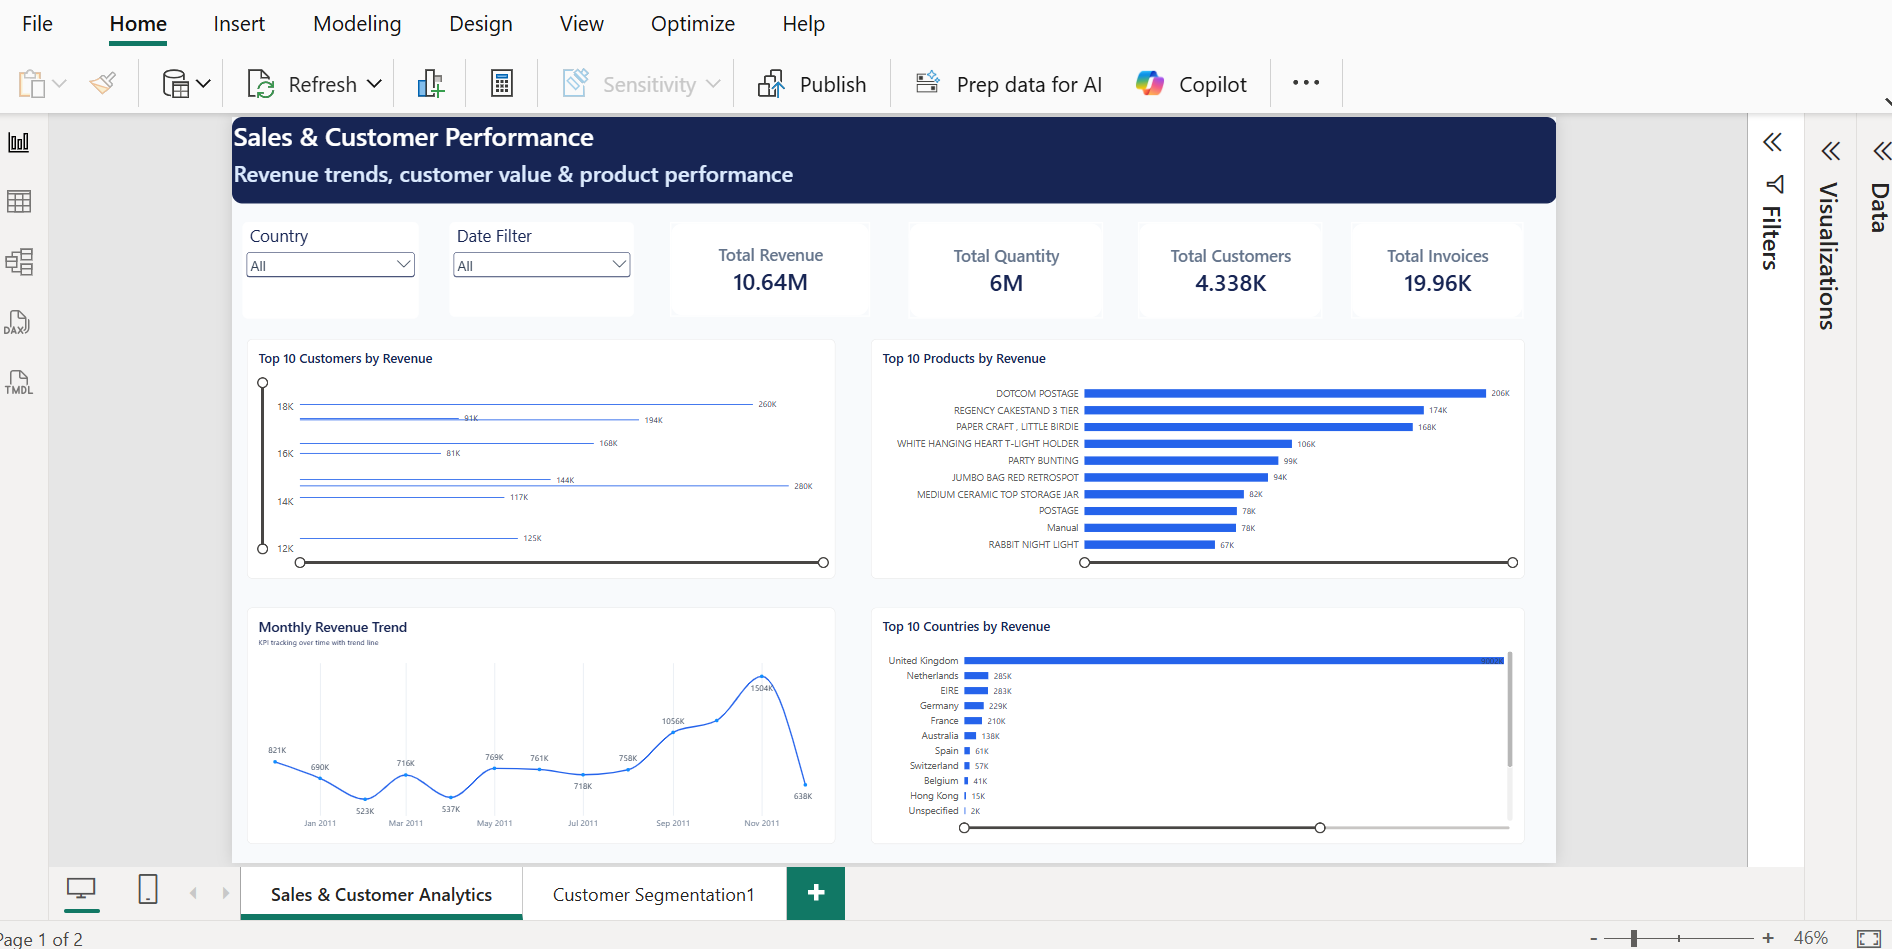

The dashboard page shown, as its layout file describes it:
{"tool":"powerbi","page":{"name":"Sales & Customer Analytics","canvas":[1920,1080],"ordinal":0},"visuals":[{"type":"cardVisual","fields":{"Data":["Sum(public order_items.revenue)"]},"box":[635,152.5,290,137.5],"z":0},{"type":"cardVisual","fields":{"Data":["Count(public orders.invoice_no)"]},"box":[1622.5,152.5,250,140],"z":1000},{"type":"cardVisual","fields":{"Data":["Sum(public order_items.quantity)"]},"box":[980,152.5,282.5,140],"z":2000},{"type":"cardVisual","fields":{"Data":["Count(public customers.customer_id)"]},"box":[1312.5,152.5,267.5,140],"z":3000},{"type":"lineChart","title":"Monthly Revenue Trend","fields":{"Y":["Sum(public order_items.revenue)"],"Category":["public orders.invoice_date.Variation.Date Hierarchy.Year","public orders.invoice_date.Variation.Date Hierarchy.Month"]},"box":[22.5,710,852.5,342.5],"z":4000},{"type":"clusteredBarChart","title":"Top 10 Products by Revenue","fields":{"Category":["public products.description"],"Y":["Sum(public order_items.revenue)"]},"box":[925,322.5,947.5,347.5],"z":5000},{"type":"clusteredBarChart","title":"Top 10 Countries by Revenue ","fields":{"Y":["Sum(public order_items.revenue)"],"Category":["public orders.country"]},"box":[925,710,947.5,342.5],"z":6000},{"type":"slicer","fields":{"Values":["public orders.invoice_date.Variation.Date Hierarchy.Year","public orders.invoice_date.Variation.Date Hierarchy.Month","public orders.invoice_date.Variation.Date Hierarchy.Day"]},"box":[315,152.5,267.5,137.5],"z":7000},{"type":"slicer","title":"Country","fields":{"Values":["public orders.country"]},"box":[15,152.5,255,140],"z":8000},{"type":"barChart","title":"Top 10 Customers by Revenue","fields":{"Category":["public customers.customer_id"],"Y":["Sum(public order_items.revenue)"]},"box":[22.5,322.5,852.5,347.5],"z":10000},{"type":"textbox","title":"Sales & Customer Performance","box":[0,0,1920,125],"z":11000}]}

Visuals, with their boxes on the page's 1920x1080 design canvas (x1, y1, x2, y2). These are canvas units, not pixel positions in the 1892x949 screenshot, which may show the page scaled, cropped or inside an application window:
cardVisual - Sum(public order_items.revenue): box(635, 152, 925, 290)
cardVisual - Count(public orders.invoice_no): box(1622, 152, 1872, 292)
cardVisual - Sum(public order_items.quantity): box(980, 152, 1262, 292)
cardVisual - Count(public customers.customer_id): box(1312, 152, 1580, 292)
"Monthly Revenue Trend" lineChart: box(22, 710, 875, 1052)
"Top 10 Products by Revenue" clusteredBarChart: box(925, 322, 1872, 670)
"Top 10 Countries by Revenue " clusteredBarChart: box(925, 710, 1872, 1052)
slicer - public orders.invoice_date.Variation.Date Hierarchy.Year x public orders.invoice_date.Variation.Date Hierarchy.Month: box(315, 152, 582, 290)
"Country" slicer: box(15, 152, 270, 292)
"Top 10 Customers by Revenue" barChart: box(22, 322, 875, 670)
"Sales & Customer Performance" textbox: box(0, 0, 1920, 125)
